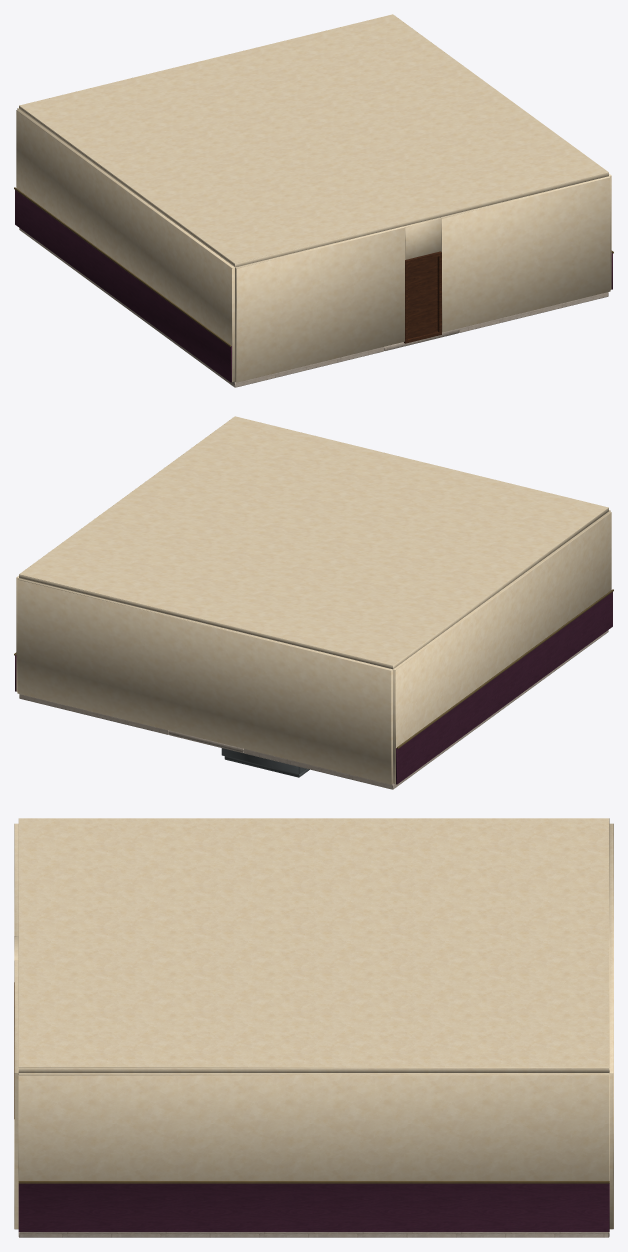
File: explore3d__inspection_hall_normal.glb
3 views of the same model, one above another, from view 1: azimuth 30°, elevation 25°; view 2: azimuth 150°, elevation 25°; view 3: azimuth 270°, elevation 25° (orthographic). The views are drawn at different scales.
Visible parts, largest first — view 1: Rebuilt_inspection_hall_normal; view 2: Rebuilt_inspection_hall_normal; view 3: Rebuilt_inspection_hall_normal.
Boxes of the visible parts, x1,y1,x2,y2 form: Rebuilt_inspection_hall_normal: (14,14,613,387); Rebuilt_inspection_hall_normal: (14,416,613,789); Rebuilt_inspection_hall_normal: (14,818,613,1237).
Bounding box in the file's own units: 12.32 × 5.82 × 12.19.
13 materials, 11 textured.
